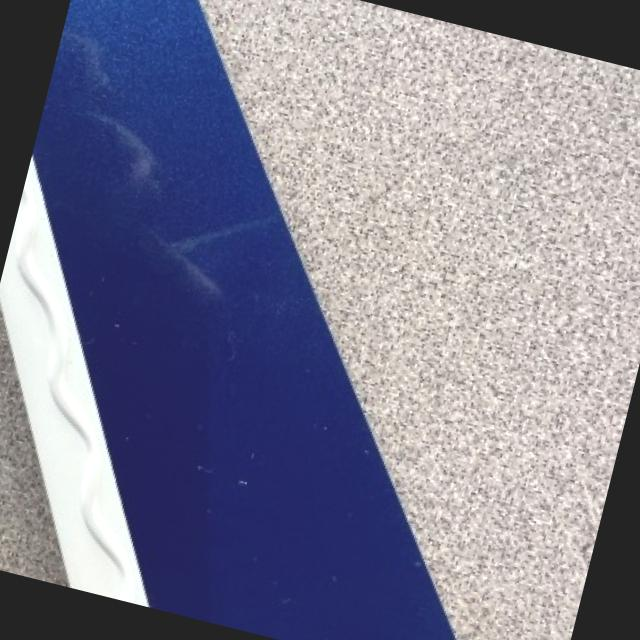healthy: (0, 0, 454, 640), (202, 0, 640, 640)
